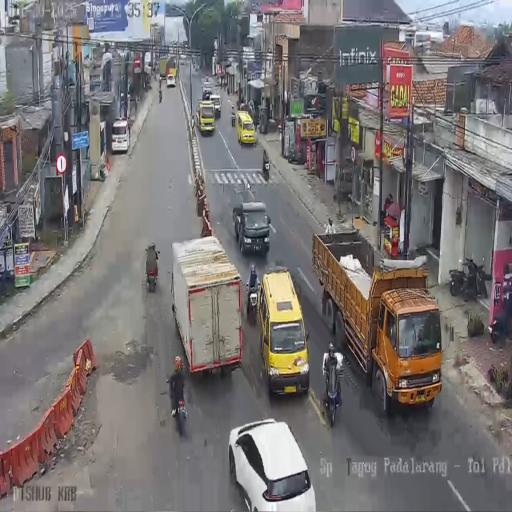car: (228, 417, 314, 511), (258, 267, 309, 394), (232, 199, 270, 255), (111, 117, 130, 153), (196, 99, 215, 135), (236, 110, 255, 146), (119, 89, 131, 113), (212, 94, 222, 117), (202, 80, 213, 100), (89, 78, 102, 92), (166, 74, 176, 88), (180, 57, 187, 66)
motorcycle: (449, 256, 489, 301), (490, 294, 512, 342), (246, 284, 259, 326), (146, 260, 158, 294), (288, 147, 304, 165), (262, 158, 270, 180), (159, 89, 162, 103)
truck: (310, 226, 438, 416), (169, 236, 244, 378), (144, 52, 154, 86), (159, 56, 168, 79)
